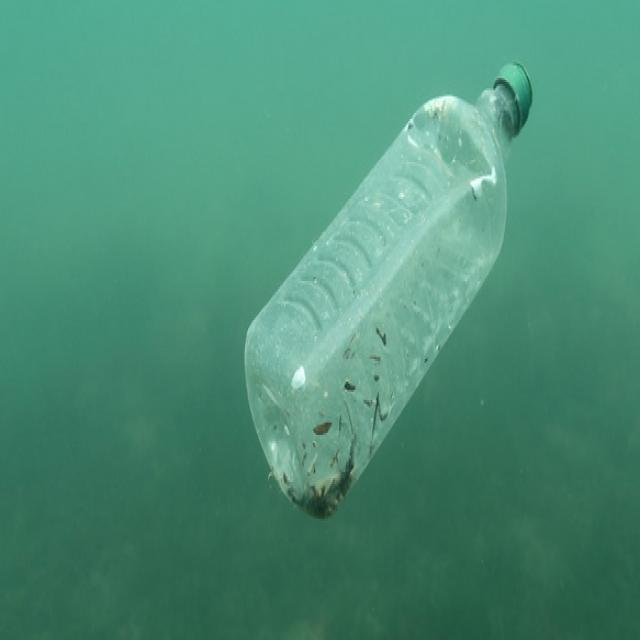Plastic Bottle: (243, 49, 535, 521)
